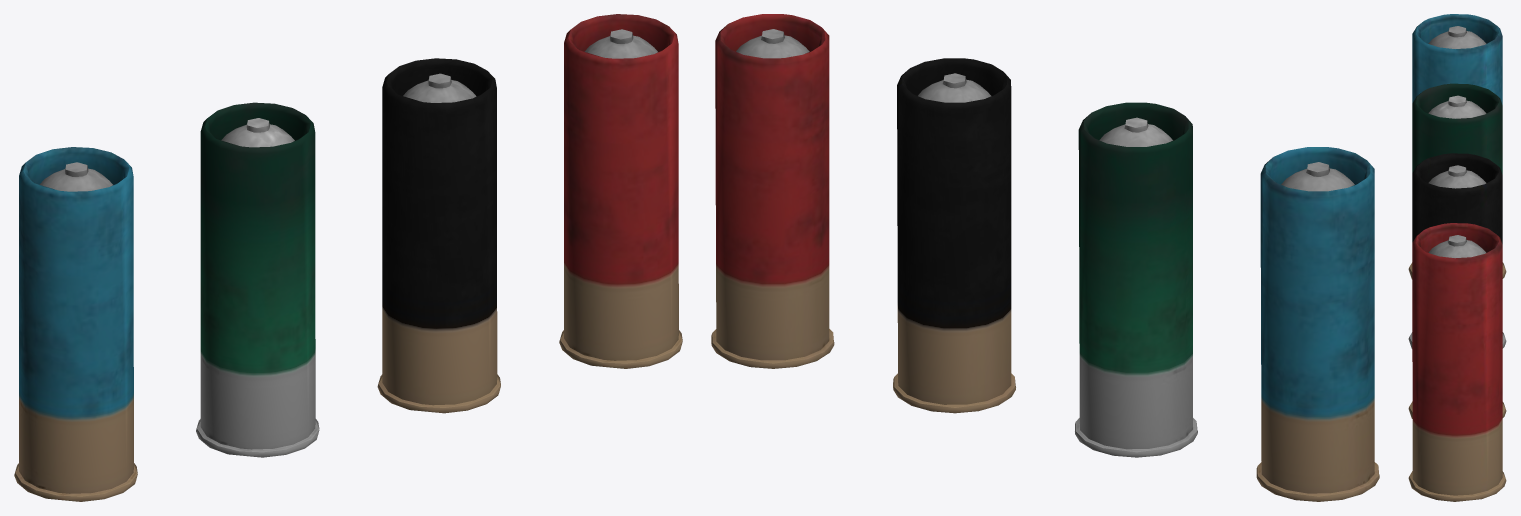
Rendered from bala_escopeta.glb.
3 views of the same model, side by side, from view 1: azimuth 30°, elevation 25°; view 2: azimuth 150°, elevation 25°; view 3: azimuth 270°, elevation 25° (orthographic). The views are drawn at different scales.
Parts seen in each view (by area): view 1: Bullets009, Bullets010, Bullets008, Bullets011; view 2: Bullets010, Bullets011, Bullets008, Bullets009; view 3: Bullets011, Bullets010, Bullets009, Bullets008.
Boxes of the visible parts, x1,y1,x2,y2 form: Bullets009: (196,102,319,457); Bullets010: (377,58,500,413); Bullets008: (14,147,137,501); Bullets011: (559,14,682,368); Bullets010: (893,58,1015,413); Bullets011: (711,14,834,368); Bullets008: (1256,147,1379,501); Bullets009: (1075,102,1197,457); Bullets011: (1408,223,1506,501); Bullets010: (1408,153,1506,418); Bullets009: (1408,83,1506,348); Bullets008: (1408,14,1506,279).
Bounding box in the file's own units: 8.61 × 3.9 × 1.43.
Materials: 4 (4 with a texture image).
